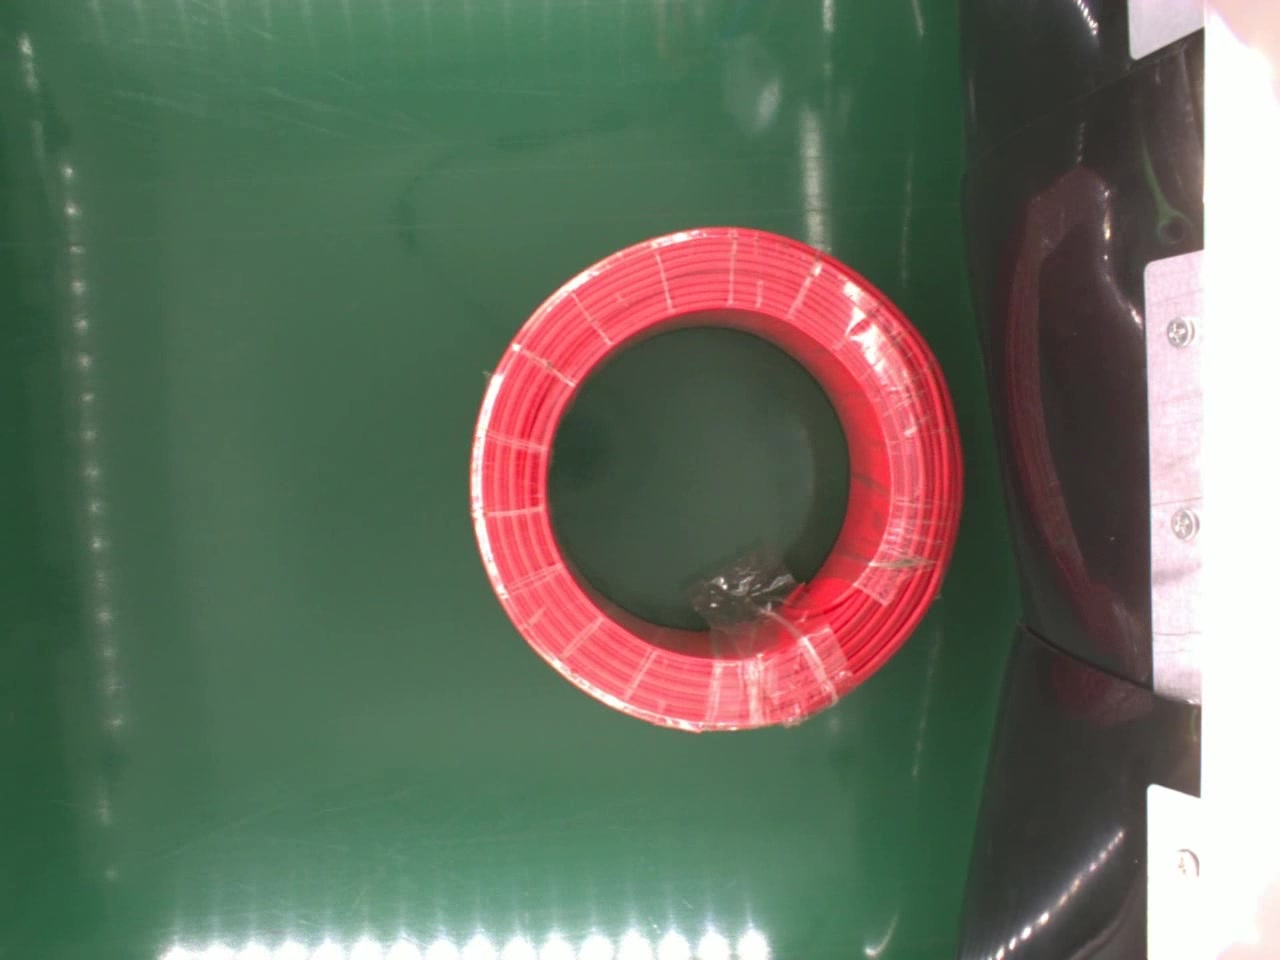red: (465, 224, 967, 736)
